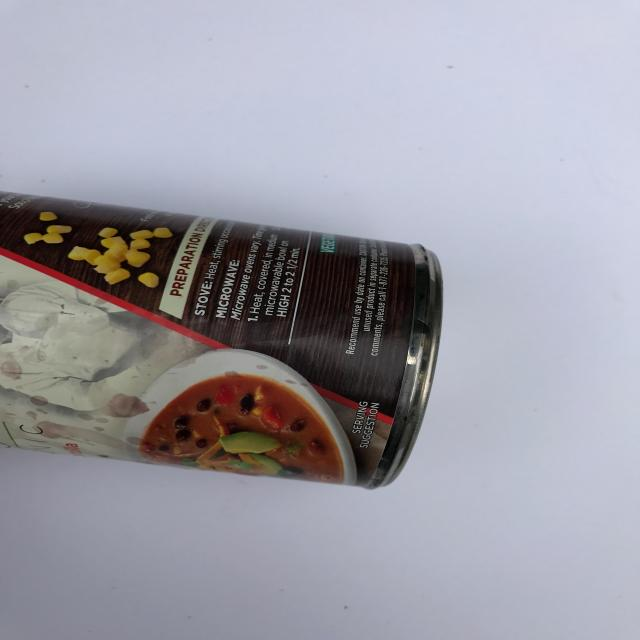Metal: (5, 170, 461, 538)
